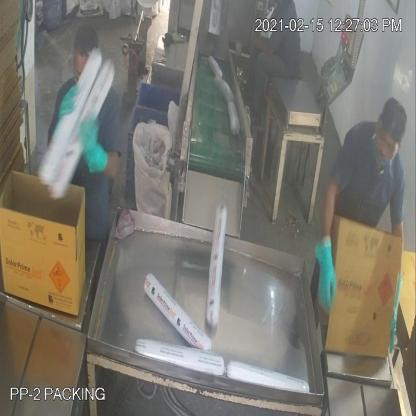glove: (74, 111, 116, 181), (315, 239, 340, 324)
no_glove: (246, 31, 286, 60)
